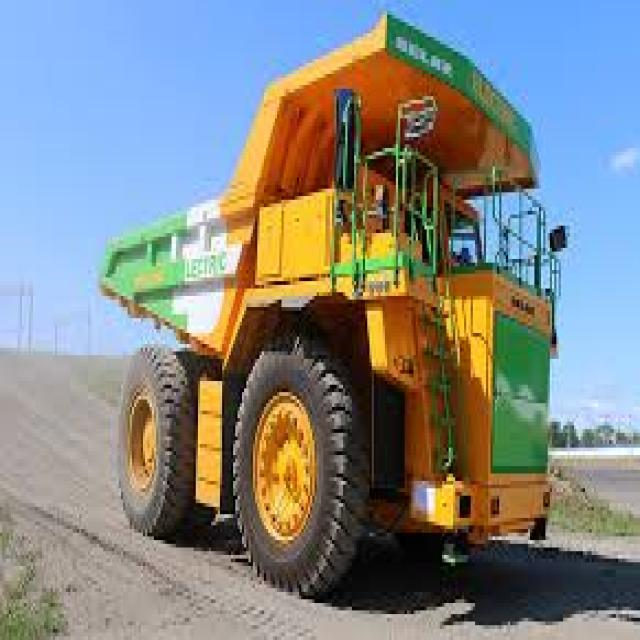dump_truck: (81, 4, 570, 577)
